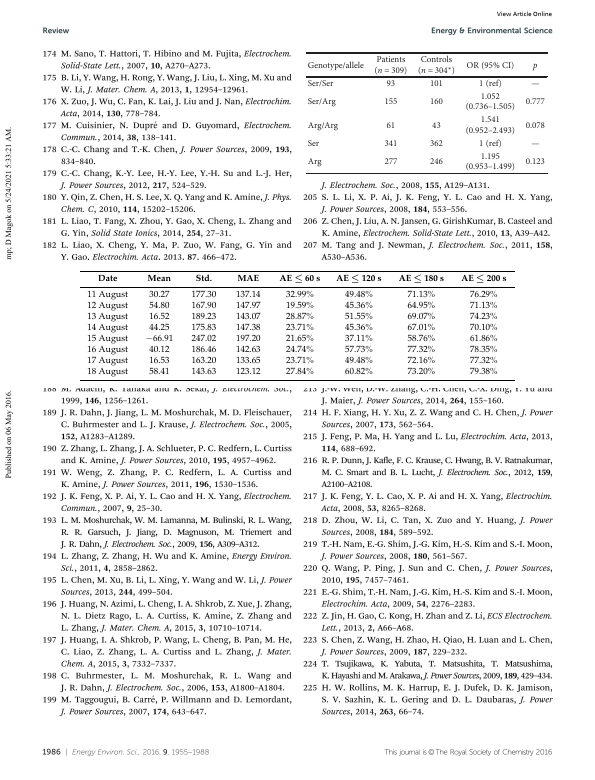borderless: (79, 269, 515, 380), (306, 51, 548, 174)
cell: (464, 92, 515, 113), (464, 115, 515, 136), (464, 152, 515, 173), (417, 55, 456, 76), (373, 55, 408, 76), (306, 60, 364, 71), (465, 60, 515, 71), (335, 274, 382, 284), (397, 274, 444, 284), (460, 274, 507, 284), (86, 290, 128, 301), (86, 301, 128, 312), (86, 312, 128, 323), (86, 323, 128, 334), (86, 334, 128, 345), (86, 345, 128, 356), (86, 356, 128, 367), (86, 367, 128, 378), (278, 274, 321, 284), (306, 120, 339, 131), (343, 290, 373, 301), (406, 290, 436, 301), (468, 290, 498, 301), (343, 301, 373, 312), (406, 301, 436, 312), (468, 301, 498, 312), (343, 312, 373, 323), (406, 312, 436, 323), (468, 312, 498, 323), (343, 323, 373, 334), (406, 323, 436, 334), (468, 323, 498, 334), (144, 334, 174, 345), (343, 334, 373, 345), (406, 334, 436, 345), (468, 334, 498, 345), (343, 345, 373, 356), (406, 345, 436, 356), (468, 345, 498, 356), (343, 356, 373, 367), (406, 356, 436, 367), (468, 356, 498, 367), (343, 367, 373, 378), (406, 367, 436, 378), (468, 367, 498, 378), (285, 290, 314, 301), (285, 301, 314, 312), (285, 312, 314, 323), (285, 323, 314, 334), (285, 334, 314, 345), (285, 345, 314, 356), (285, 356, 314, 367), (285, 367, 314, 378), (306, 97, 336, 107), (190, 290, 217, 301), (234, 290, 261, 301), (190, 301, 217, 312), (234, 301, 261, 312), (190, 312, 217, 323), (234, 312, 261, 323), (190, 323, 217, 334), (234, 323, 261, 334), (190, 334, 217, 345), (234, 334, 261, 345), (190, 345, 217, 356), (234, 345, 261, 356), (190, 356, 217, 367), (234, 356, 261, 367), (190, 367, 217, 378), (234, 367, 261, 378), (306, 79, 334, 89), (148, 290, 170, 301), (148, 301, 170, 312), (148, 312, 170, 323), (148, 323, 170, 334), (148, 345, 170, 356), (148, 356, 170, 367), (148, 367, 170, 378), (478, 79, 502, 89), (478, 139, 502, 149), (524, 120, 545, 131), (524, 157, 545, 168), (524, 97, 545, 107), (146, 274, 172, 282), (236, 274, 259, 282), (96, 274, 118, 282), (306, 157, 322, 168), (383, 157, 398, 168), (429, 157, 444, 168), (429, 79, 444, 89), (383, 97, 398, 107), (429, 97, 444, 107), (383, 139, 398, 149), (429, 139, 444, 149), (194, 274, 212, 282), (306, 139, 320, 149), (385, 120, 396, 131), (385, 79, 396, 89), (431, 120, 441, 131), (532, 62, 538, 71), (530, 83, 540, 87), (530, 143, 540, 147)
